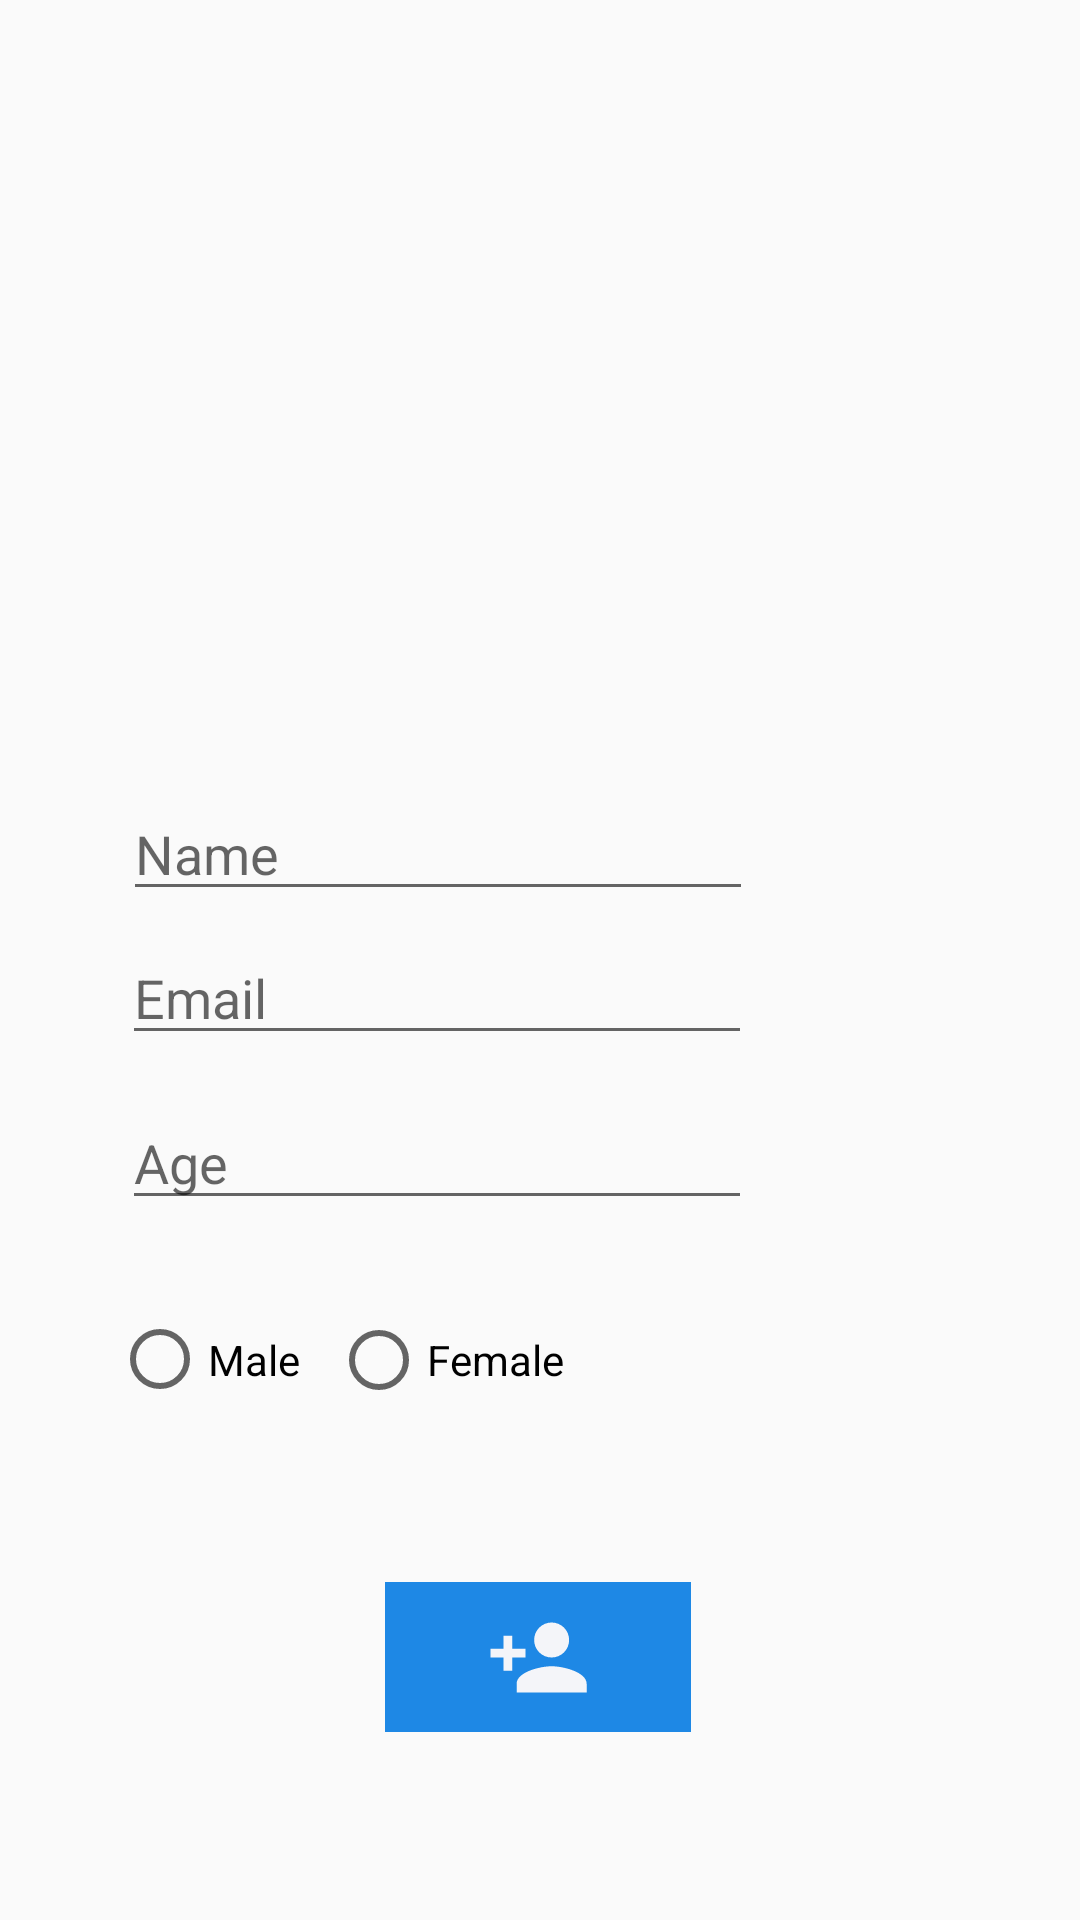

Icon click points for this 1080px x 1920px phone screenshot, format [x,y]:
person add: [538,1657]
